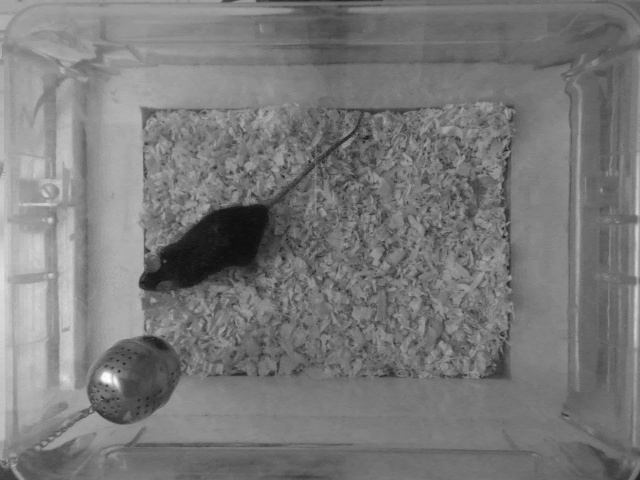mice: (131, 106, 366, 296)
